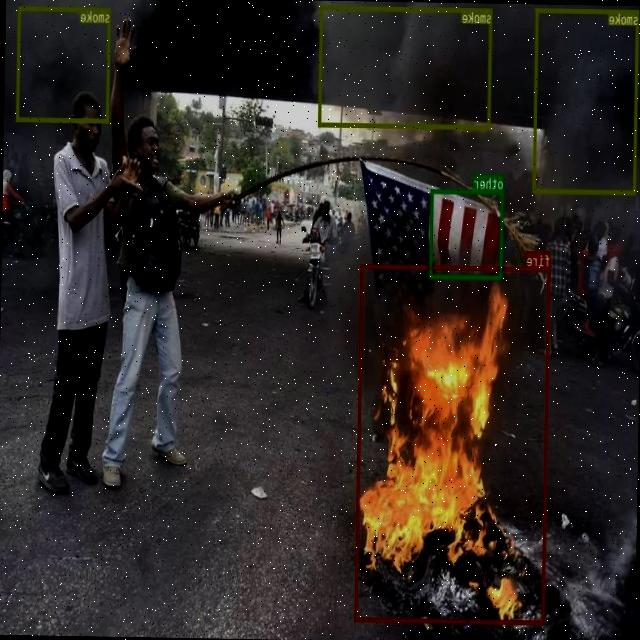fire: (355, 263, 551, 624)
smoke: (318, 5, 492, 130), (532, 8, 640, 194), (16, 6, 111, 122)
